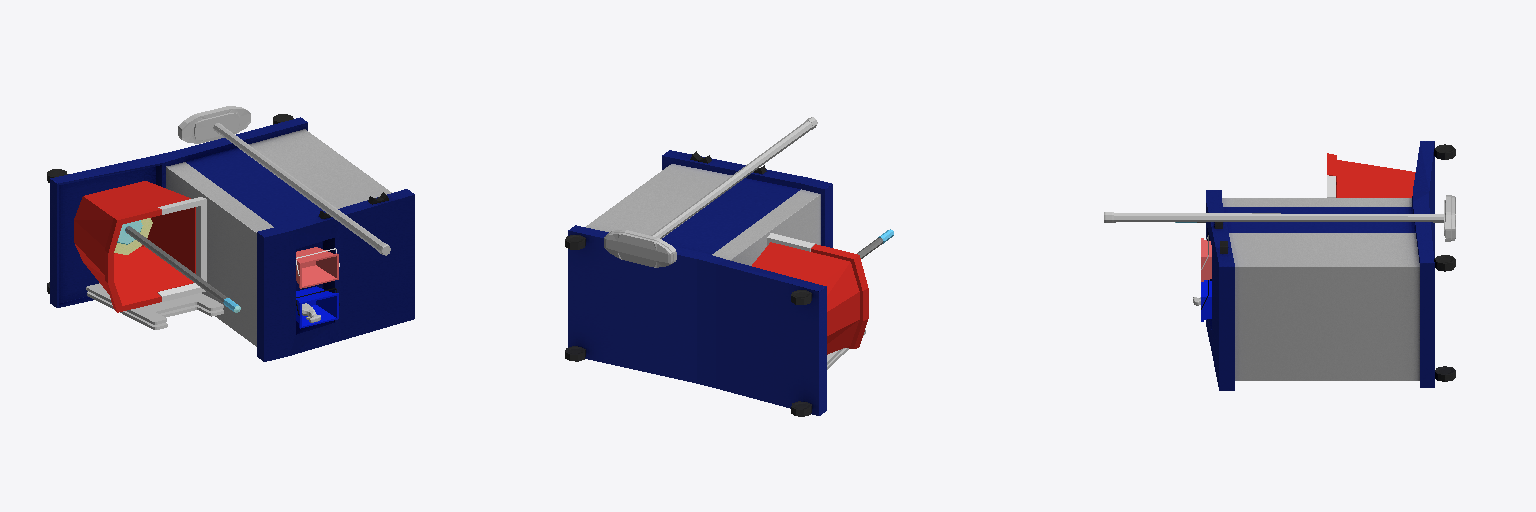
The picture shows the model from 3 angles: view 1: azimuth 30°, elevation 25°; view 2: azimuth 150°, elevation 25°; view 3: azimuth 270°, elevation 25°; orthographic projection.
Parts seen in each view (by area): view 1: cart_Cube.005, BigRed_Cube.006, mop_Cube, sign_Cylinder, mop2_Cylinder.002, red_Cube.008, blue_Cube.007; view 2: cart_Cube.005, BigRed_Cube.006, mop_Cube; view 3: cart_Cube.005, mop_Cube, BigRed_Cube.006.
Boxes of the visible parts, x1=… form: cart_Cube.005: x1=47, y1=114, x2=414, y2=361; BigRed_Cube.006: x1=74, y1=181, x2=206, y2=312; mop_Cube: x1=178, y1=106, x2=390, y2=255; sign_Cylinder: x1=86, y1=283, x2=223, y2=329; mop2_Cylinder.002: x1=114, y1=218, x2=240, y2=312; red_Cube.008: x1=296, y1=247, x2=339, y2=288; blue_Cube.007: x1=296, y1=286, x2=339, y2=328; cart_Cube.005: x1=565, y1=150, x2=832, y2=416; BigRed_Cube.006: x1=752, y1=233, x2=868, y2=354; mop_Cube: x1=604, y1=117, x2=817, y2=267; cart_Cube.005: x1=1206, y1=141, x2=1455, y2=390; mop_Cube: x1=1104, y1=195, x2=1455, y2=241; BigRed_Cube.006: x1=1327, y1=153, x2=1415, y2=197.
Bounding box in the file's own units: 1.1 × 0.5922 × 1.3.
Materials: 8 (5 with a texture image).